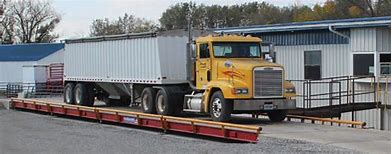Industrial Scale: (8, 96, 370, 145)
